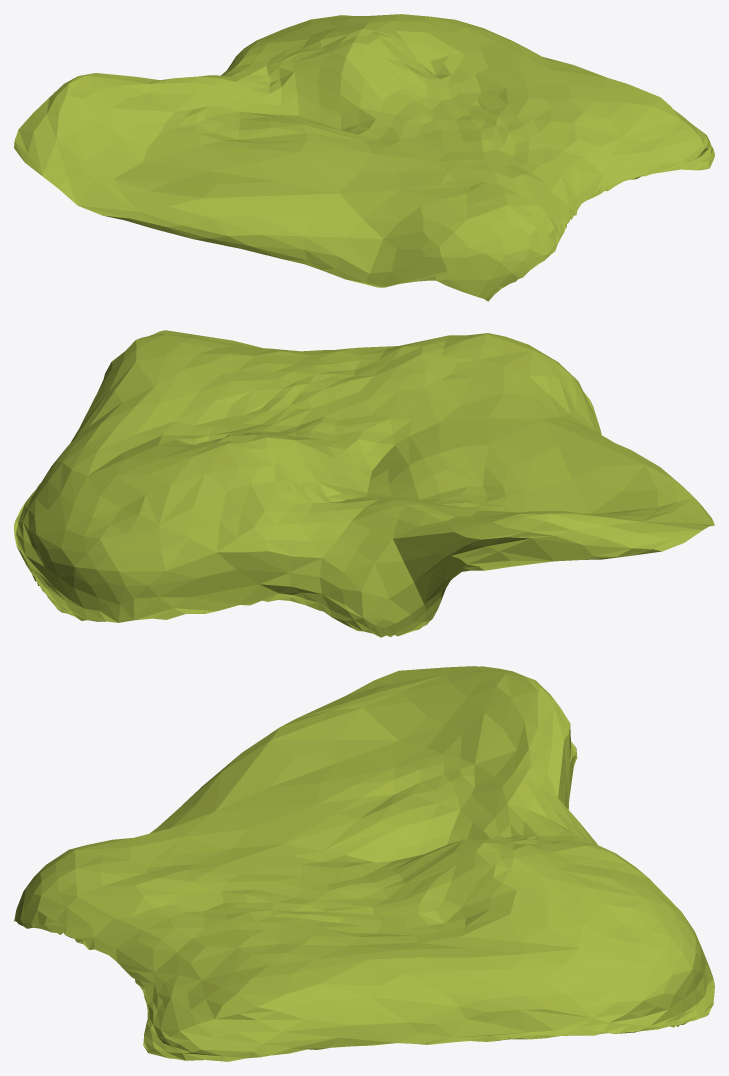
The model's file is hill_005.glb.
3 renders of one model, top to bottom at view 1: azimuth 30°, elevation 25°; view 2: azimuth 150°, elevation 25°; view 3: azimuth 270°, elevation 25°, orthographic. The views are drawn at different scales.
Parts seen in each view (by area): view 1: hill_005; view 2: hill_005; view 3: hill_005.
Boxes of the visible parts, left/top/right/bottom form: hill_005: left=14, top=14, right=714, bottom=301; hill_005: left=14, top=330, right=714, bottom=637; hill_005: left=14, top=666, right=714, bottom=1061.
Bounding box in the file's own units: 121 × 23.07 × 107.
Materials: 1 (1 with a texture image).
